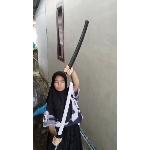Pedang: (50, 80, 78, 150)
